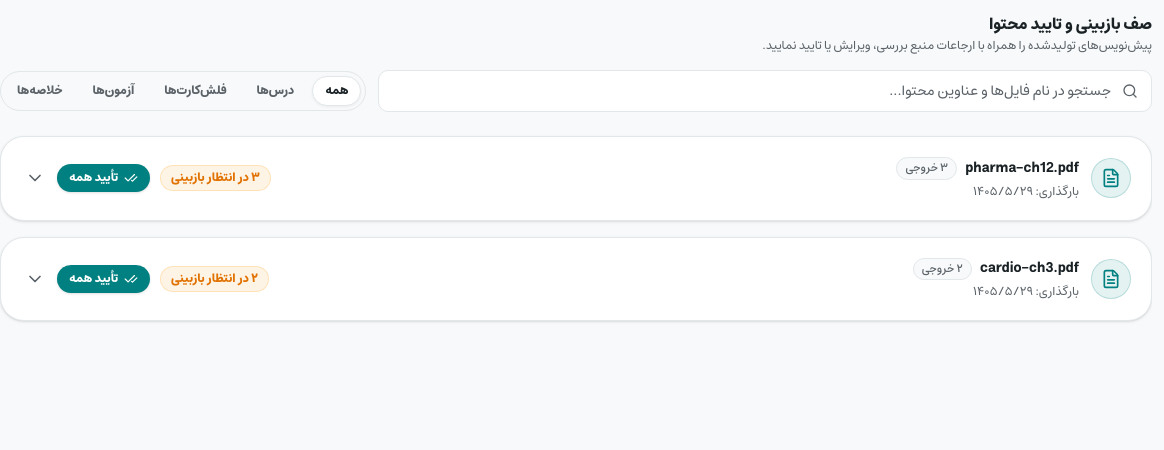
Test: Admin Review Grouping UI & Interactions › ReviewQueueList implements Single-Select Accordion (all collapsed initially, only 1 open at a time)
Expected: the heading "cardio-ch3.pdf" is shown, [980, 259, 1079, 278]
Expected: the text "آگونیست‌های آدرنرژیک" is not shown
Click the heading "pharma-ch12.pdf".
click(1022, 168)  # box [965, 159, 1079, 178]
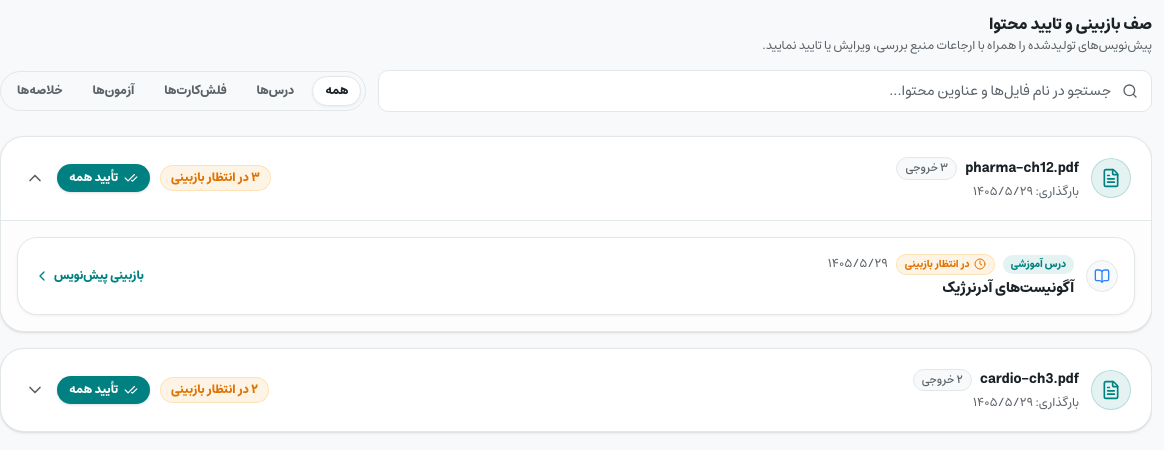
Expected: the text "فلش‌کارت‌های نوار قلب" is not shown
Now the heading "آگونیست‌های آدرنرژیک" is shown, box [942, 276, 1074, 300]
Click the heading "cardio-ch3.pdf".
click(1029, 380)  # box [980, 370, 1079, 390]
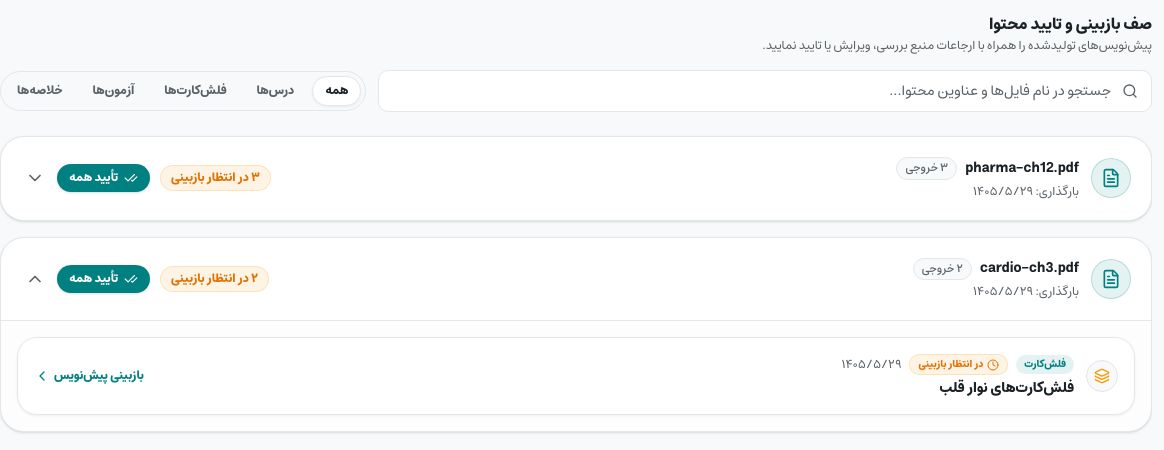
Now the button "آگونیست‌های آدرنرژیک" is gone
Now the heading "فلش‌کارت‌های نوار قلب" is shown, box [940, 376, 1074, 400]
Click the heading "cardio-ch3.pdf".
click(1029, 269)  # box [980, 259, 1079, 278]
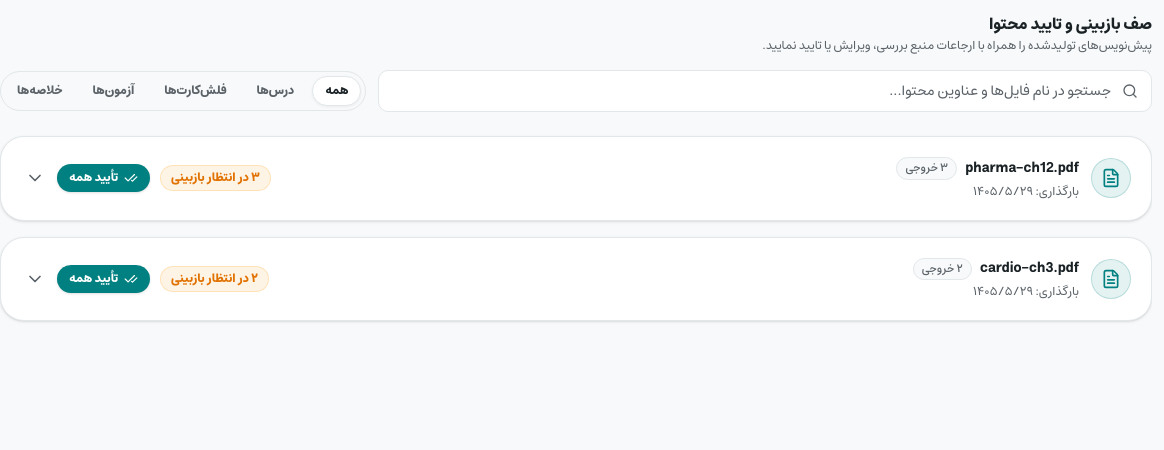
Expected: the button "آگونیست‌های آدرنرژیک" is not shown
Now the button "فلش‌کارت‌های نوار قلب" is gone
